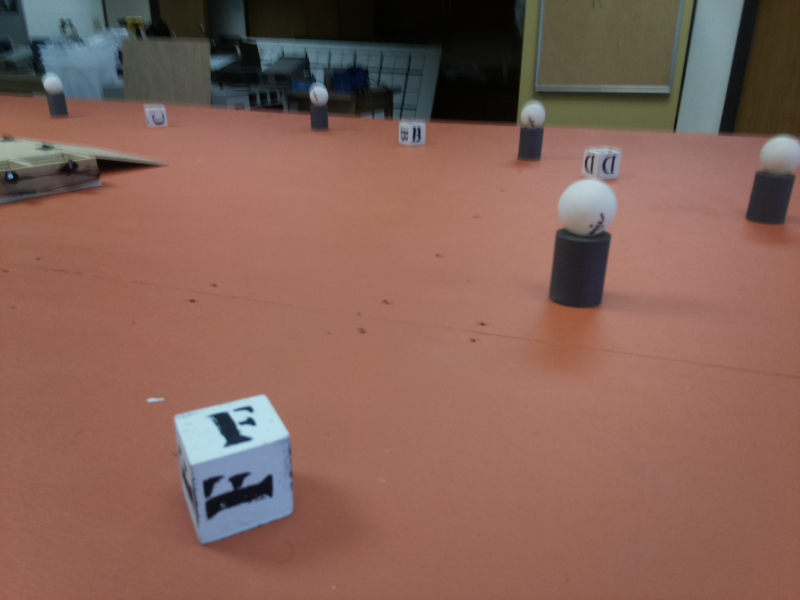blockB: (397, 118, 428, 153)
blockC: (144, 103, 166, 132)
blockD: (582, 143, 631, 182)
blockF: (177, 391, 308, 532)
obstacle: (547, 180, 621, 303), (743, 132, 800, 226), (517, 93, 547, 169), (306, 84, 333, 134), (42, 73, 69, 119)
side: (1, 157, 101, 209)
